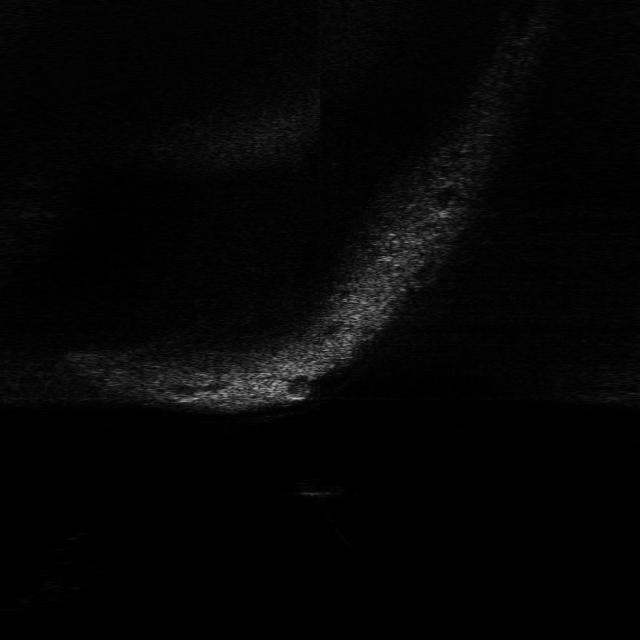cube: (296, 475, 350, 501)
